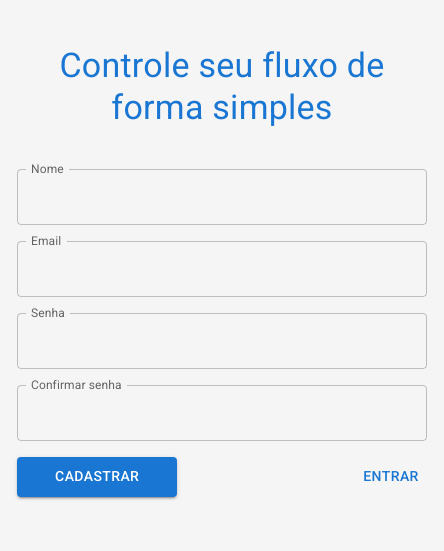
Scenario: Register › should render require confirm password invalid
In the password field labelled "Senha": (222, 341) [17, 313, 427, 369], type "admin"
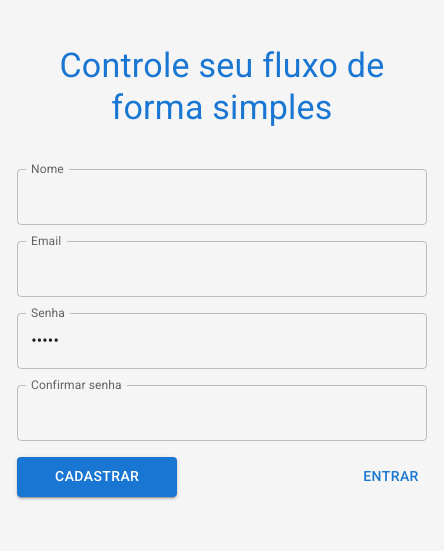
In the password field labelled "Confirmar senha": (222, 413) [17, 385, 427, 441], type "adminn"
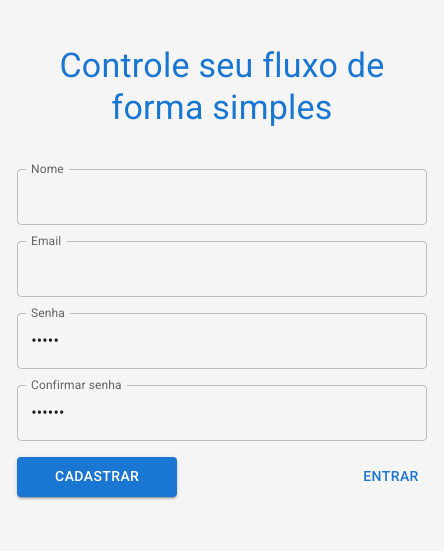
Click the button "Cadastrar": (97, 477) [17, 457, 177, 497]
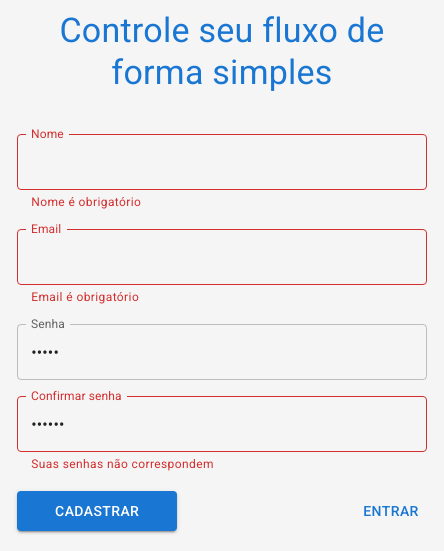
Expected: the text "Suas senhas não correspondem" is shown, [31, 457, 214, 471]
